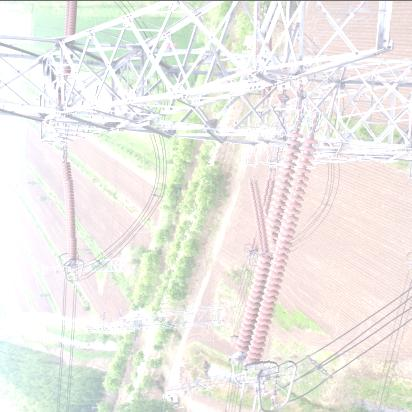insulator: (236, 106, 315, 372), (245, 176, 273, 258), (60, 155, 80, 264)
